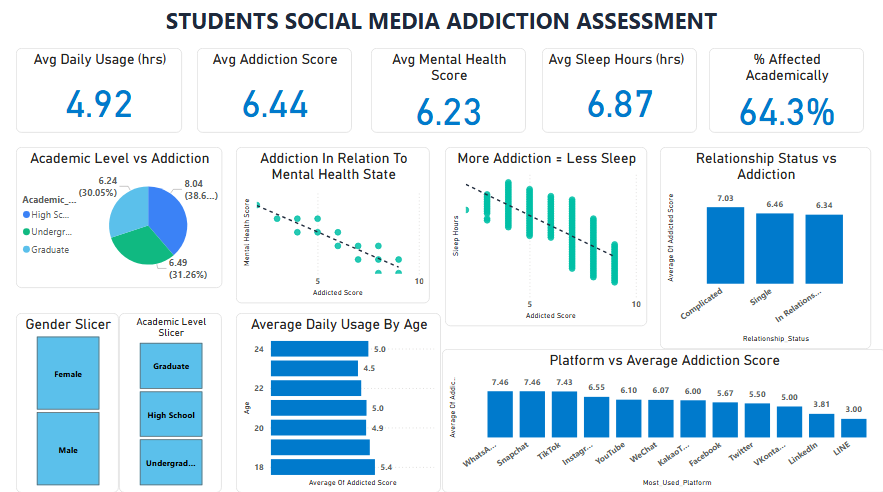

The page's visual inventory and layout, read from the dashboard file:
{"tool":"powerbi","page":{"name":"Page 1","canvas":[1280,720],"ordinal":0},"visuals":[{"type":"textbox","box":[0,11.5,1280.2,67.7],"z":0},{"type":"card","title":"Avg Daily Usage (hrs)","fields":{"Values":["Avg(Students_Social_Media_Addiction.Avg_Daily_Usage_Hours)"]},"box":[27.4,79.2,239,122.4],"z":1000},{"type":"card","title":"Avg Addiction Score","fields":{"Values":["Avg(Students_Social_Media_Addiction.Addicted_Score)"]},"box":[288,79.2,223.2,122.4],"z":2000},{"type":"card","title":"Avg Mental Health Score","fields":{"Values":["Avg(Students_Social_Media_Addiction.Mental_Health_Score)"]},"box":[538.6,79.2,223.2,122.4],"z":3000},{"type":"card","title":"Avg Sleep Hours (hrs)","fields":{"Values":["Avg(Students_Social_Media_Addiction.Sleep_Hours_Per_Night)"]},"box":[784.8,79.2,223.2,122.4],"z":4000},{"type":"card","title":"% Affected Academically","fields":{"Values":["Students_Social_Media_Addiction.% Affected Academically"]},"box":[1025.3,79.2,223.2,122.4],"z":5000},{"type":"pieChart","title":"Academic Level vs Addiction","fields":{"Category":["Students_Social_Media_Addiction.Academic_Level"],"Y":["Avg(Students_Social_Media_Addiction.Addicted_Score)"]},"box":[27.4,221.8,296.6,203],"z":6000},{"type":"columnChart","title":"Academic Level vs Addiction","fields":{"Category":["Students_Social_Media_Addiction.Relationship_Status"],"Y":["Avg(Students_Social_Media_Addiction.Addicted_Score)"]},"box":[954.7,221.8,303.8,290.9],"z":7000},{"type":"scatterChart","title":"Addiction In Relation To Mental Health State","fields":{"X":["Students_Social_Media_Addiction.Addicted_Score"],"Y":["Students_Social_Media_Addiction.Mental_Health_Score"]},"box":[344.2,221.8,279.4,224.6],"z":8000},{"type":"scatterChart","title":"More Addiction = Less Sleep","fields":{"X":["Students_Social_Media_Addiction.Addicted_Score"],"Y":["Students_Social_Media_Addiction.Sleep_Hours_Per_Night"]},"box":[645.1,221.8,290.9,257.8],"z":9000},{"type":"clusteredBarChart","title":"Average Daily Usage By Age","fields":{"Category":["Students_Social_Media_Addiction.Age"],"Y":["Avg(Students_Social_Media_Addiction.Avg_Daily_Usage_Hours)"]},"box":[344.2,460.8,295.2,259.2],"z":10000},{"type":"slicer","title":"Gender Slicer","fields":{"Values":["Students_Social_Media_Addiction.Gender"]},"box":[27.4,460.8,148.3,259.2],"z":11000},{"type":"slicer","title":"Academic Level Slicer","fields":{"Values":["Students_Social_Media_Addiction.Academic_Level"]},"box":[175.7,460.8,148.3,259.2],"z":12000},{"type":"columnChart","title":"Platform vs Average Addiction Score","fields":{"Category":["Students_Social_Media_Addiction.Most_Used_Platform"],"Y":["Avg(Students_Social_Media_Addiction.Addicted_Score)"]},"box":[640.8,512.6,639.4,207.4],"z":13000}]}

Visuals, with their boxes in screenshot pixels (x1, y1, x2, y2), scaled from the page's 1280x720 canvas onto the 883x492 screenshot:
textbox: left=0, top=8, right=882, bottom=54
"Avg Daily Usage (hrs)" card: left=19, top=54, right=184, bottom=138
"Avg Addiction Score" card: left=199, top=54, right=353, bottom=138
"Avg Mental Health Score" card: left=372, top=54, right=526, bottom=138
"Avg Sleep Hours (hrs)" card: left=541, top=54, right=695, bottom=138
"% Affected Academically" card: left=707, top=54, right=861, bottom=138
"Academic Level vs Addiction" pieChart: left=19, top=152, right=224, bottom=290
"Academic Level vs Addiction" columnChart: left=659, top=152, right=868, bottom=350
"Addiction In Relation To Mental Health State" scatterChart: left=237, top=152, right=430, bottom=305
"More Addiction = Less Sleep" scatterChart: left=445, top=152, right=646, bottom=328
"Average Daily Usage By Age" clusteredBarChart: left=237, top=315, right=441, bottom=491
"Gender Slicer" slicer: left=19, top=315, right=121, bottom=491
"Academic Level Slicer" slicer: left=121, top=315, right=224, bottom=491
"Platform vs Average Addiction Score" columnChart: left=442, top=350, right=882, bottom=491
